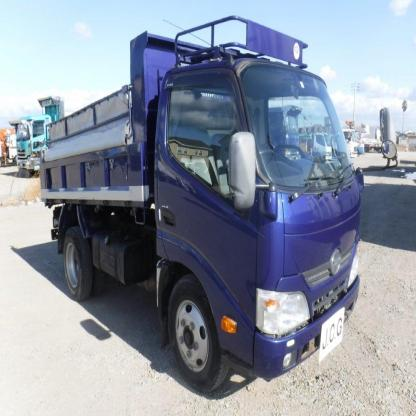dump_truck: (33, 10, 367, 386)
